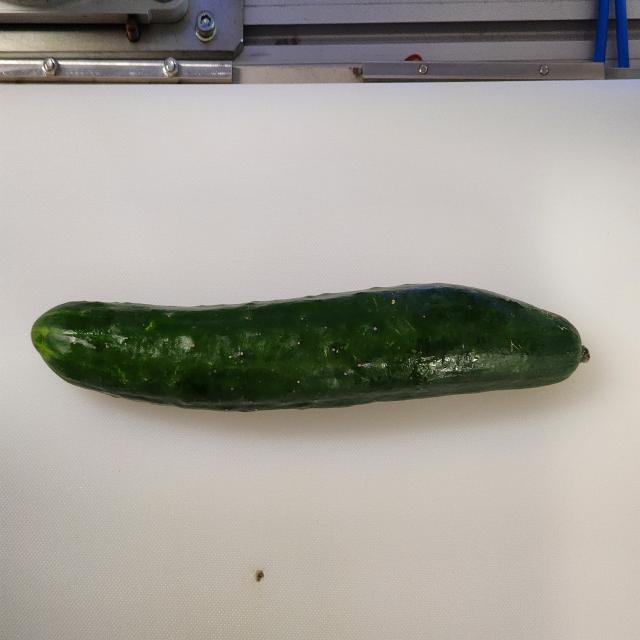cucumber: (31, 281, 590, 412)
